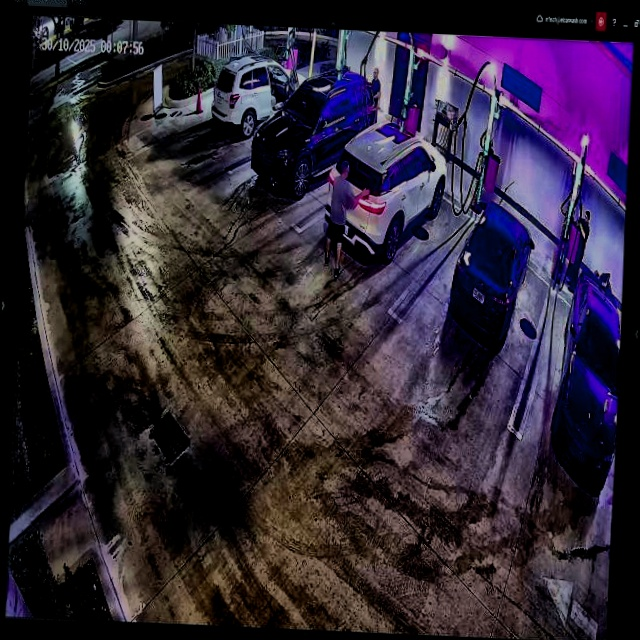Car: (325, 118, 449, 263), (250, 64, 379, 197), (449, 202, 535, 345)
